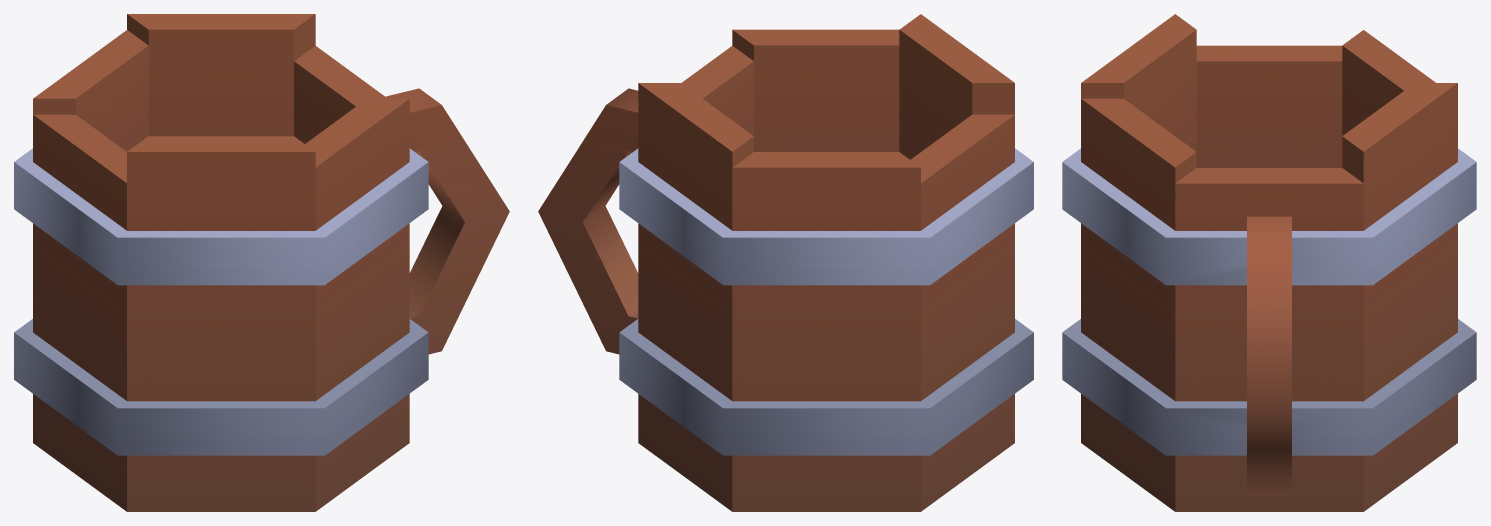
File: mug.glb
The picture shows the model from 3 angles, left to right: view 1: azimuth 30°, elevation 25°; view 2: azimuth 150°, elevation 25°; view 3: azimuth 270°, elevation 25°; orthographic projection.
Parts seen in each view (by area): view 1: mug; view 2: mug; view 3: mug.
Boxes of the visible parts, box(x1,y1,x2,y2) form: mug: box(14, 14, 509, 511); mug: box(538, 14, 1033, 511); mug: box(1062, 14, 1476, 511).
Bounding box in the file's own units: 0.3437 × 0.2734 × 0.2851.
Materials: 1 (1 with a texture image).
